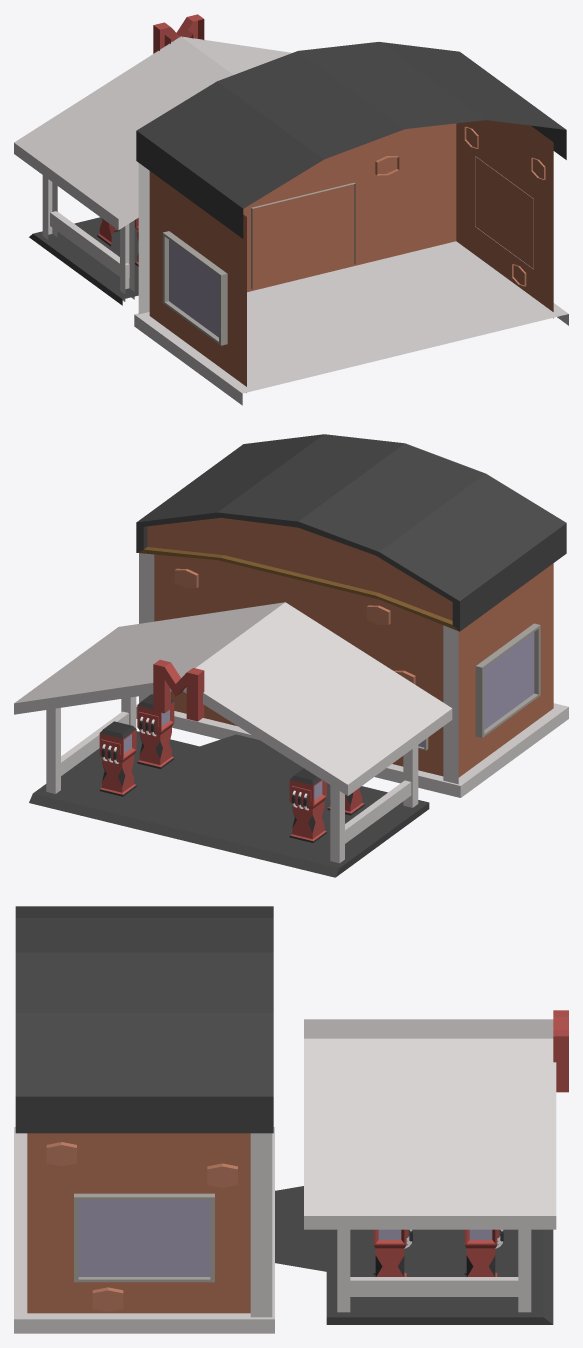
The model's file is LP_House_2.fbx.
3 renders of one model, top to bottom at view 1: azimuth 30°, elevation 25°; view 2: azimuth 150°, elevation 25°; view 3: azimuth 270°, elevation 25°, orthographic. The views are drawn at different scales.
Visible parts, largest first — view 1: Cube, Куб, Cube.004, Cube.006, Куб.003, Cube.008, Cube.001, Куб.004, Куб.001, Cube.005; view 2: Куб, Cube.006, Cube, Cube.001, Cube.004, Cube.008, Куб.003, Cube.011, Cube.010, Куб.004, Cube.007, Cube.005; view 3: Куб, Cube.006, Cube, Cube.001, Куб.002, Cube.004, Cube.008, Cube.005, Cube.007, Cube.011, Куб.004.
Part boxes in pixels (bbox=[...]): Cube: bbox=[149, 120, 553, 392]; Куб: bbox=[136, 42, 566, 238]; Cube.004: bbox=[134, 163, 568, 405]; Cube.006: bbox=[14, 36, 291, 230]; Куб.003: bbox=[162, 231, 227, 345]; Cube.008: bbox=[42, 175, 134, 301]; Cube.001: bbox=[29, 217, 138, 305]; Куб.004: bbox=[153, 14, 204, 53]; Куб.001: bbox=[251, 183, 355, 289]; Cube.005: bbox=[375, 126, 545, 286]; Куб: bbox=[136, 434, 566, 631]; Cube.006: bbox=[14, 602, 452, 795]; Cube: bbox=[154, 554, 553, 777]; Cube.001: bbox=[29, 731, 429, 877]; Cube.004: bbox=[136, 553, 568, 797]; Cube.008: bbox=[46, 696, 418, 863]; Куб.003: bbox=[475, 623, 540, 737]; Cube.011: bbox=[99, 721, 136, 796]; Cube.010: bbox=[289, 768, 326, 842]; Куб.004: bbox=[153, 659, 204, 721]; Cube.007: bbox=[137, 694, 174, 768]; Cube.005: bbox=[174, 568, 415, 684]; Куб: bbox=[15, 906, 273, 1133]; Cube.006: bbox=[304, 1019, 556, 1229]; Cube: bbox=[27, 1133, 250, 1313]; Cube.001: bbox=[275, 1186, 553, 1324]; Куб.002: bbox=[74, 1193, 214, 1282]; Cube.004: bbox=[14, 1127, 274, 1333]; Cube.008: bbox=[337, 1229, 531, 1312]; Cube.005: bbox=[46, 1142, 237, 1311]; Cube.007: bbox=[373, 1229, 412, 1276]; Cube.011: bbox=[464, 1229, 503, 1276]; Куб.004: bbox=[553, 1010, 568, 1092].
Size of the model in its own units: 1983 by 1340 by 2366.
